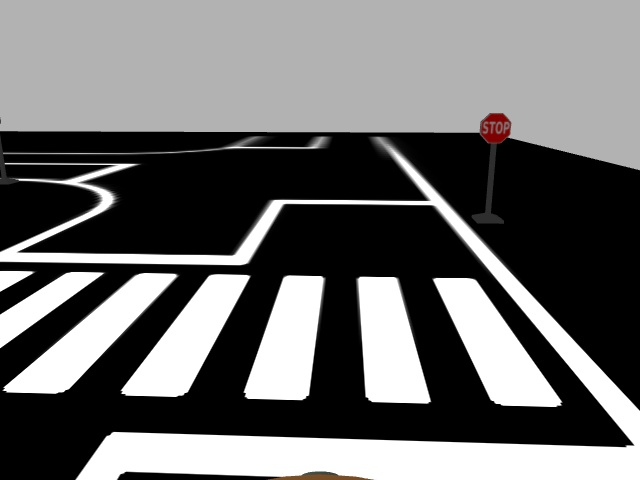stop: (477, 110, 512, 145)
